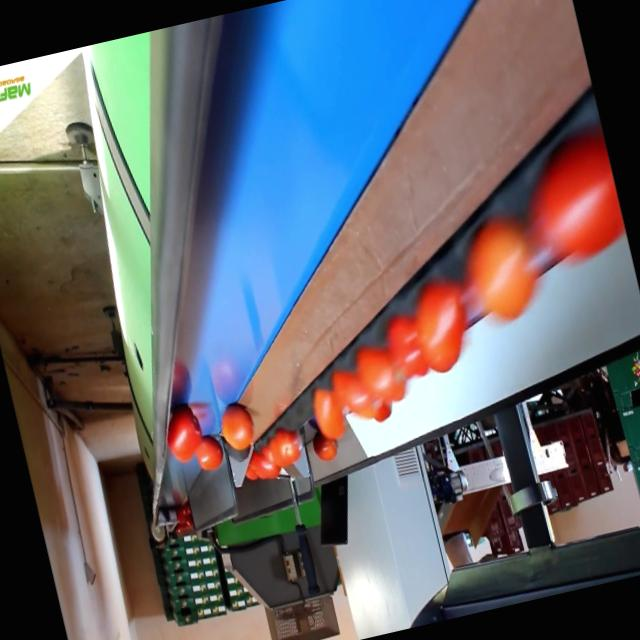Tomato: (515, 133, 628, 272), (458, 212, 548, 326), (406, 278, 484, 374), (352, 341, 410, 407), (328, 359, 386, 423), (380, 309, 430, 380), (308, 382, 352, 442), (216, 401, 256, 449), (162, 416, 201, 461), (271, 425, 306, 463), (248, 450, 282, 482), (193, 437, 224, 470), (312, 434, 339, 461), (366, 402, 394, 426), (175, 509, 185, 524)
